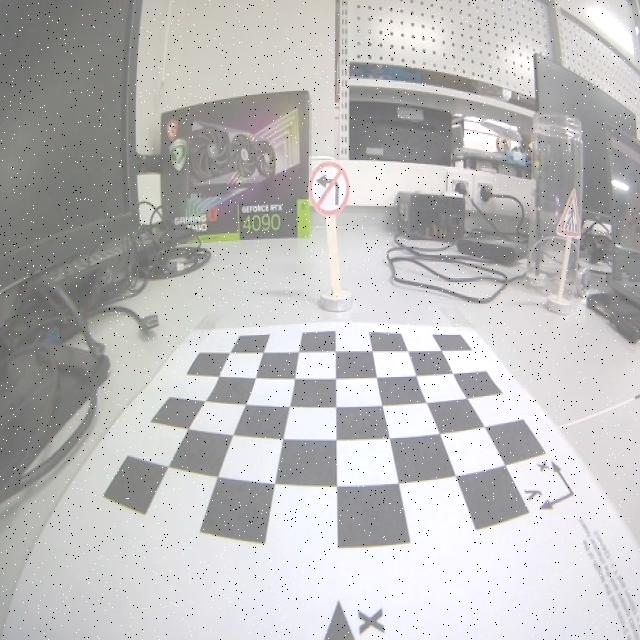Dilarang Belok Kiri: (308, 161, 349, 217)
